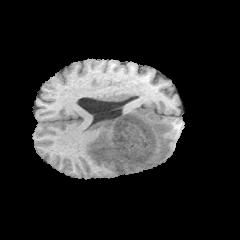glioma: (85, 108, 174, 173)
